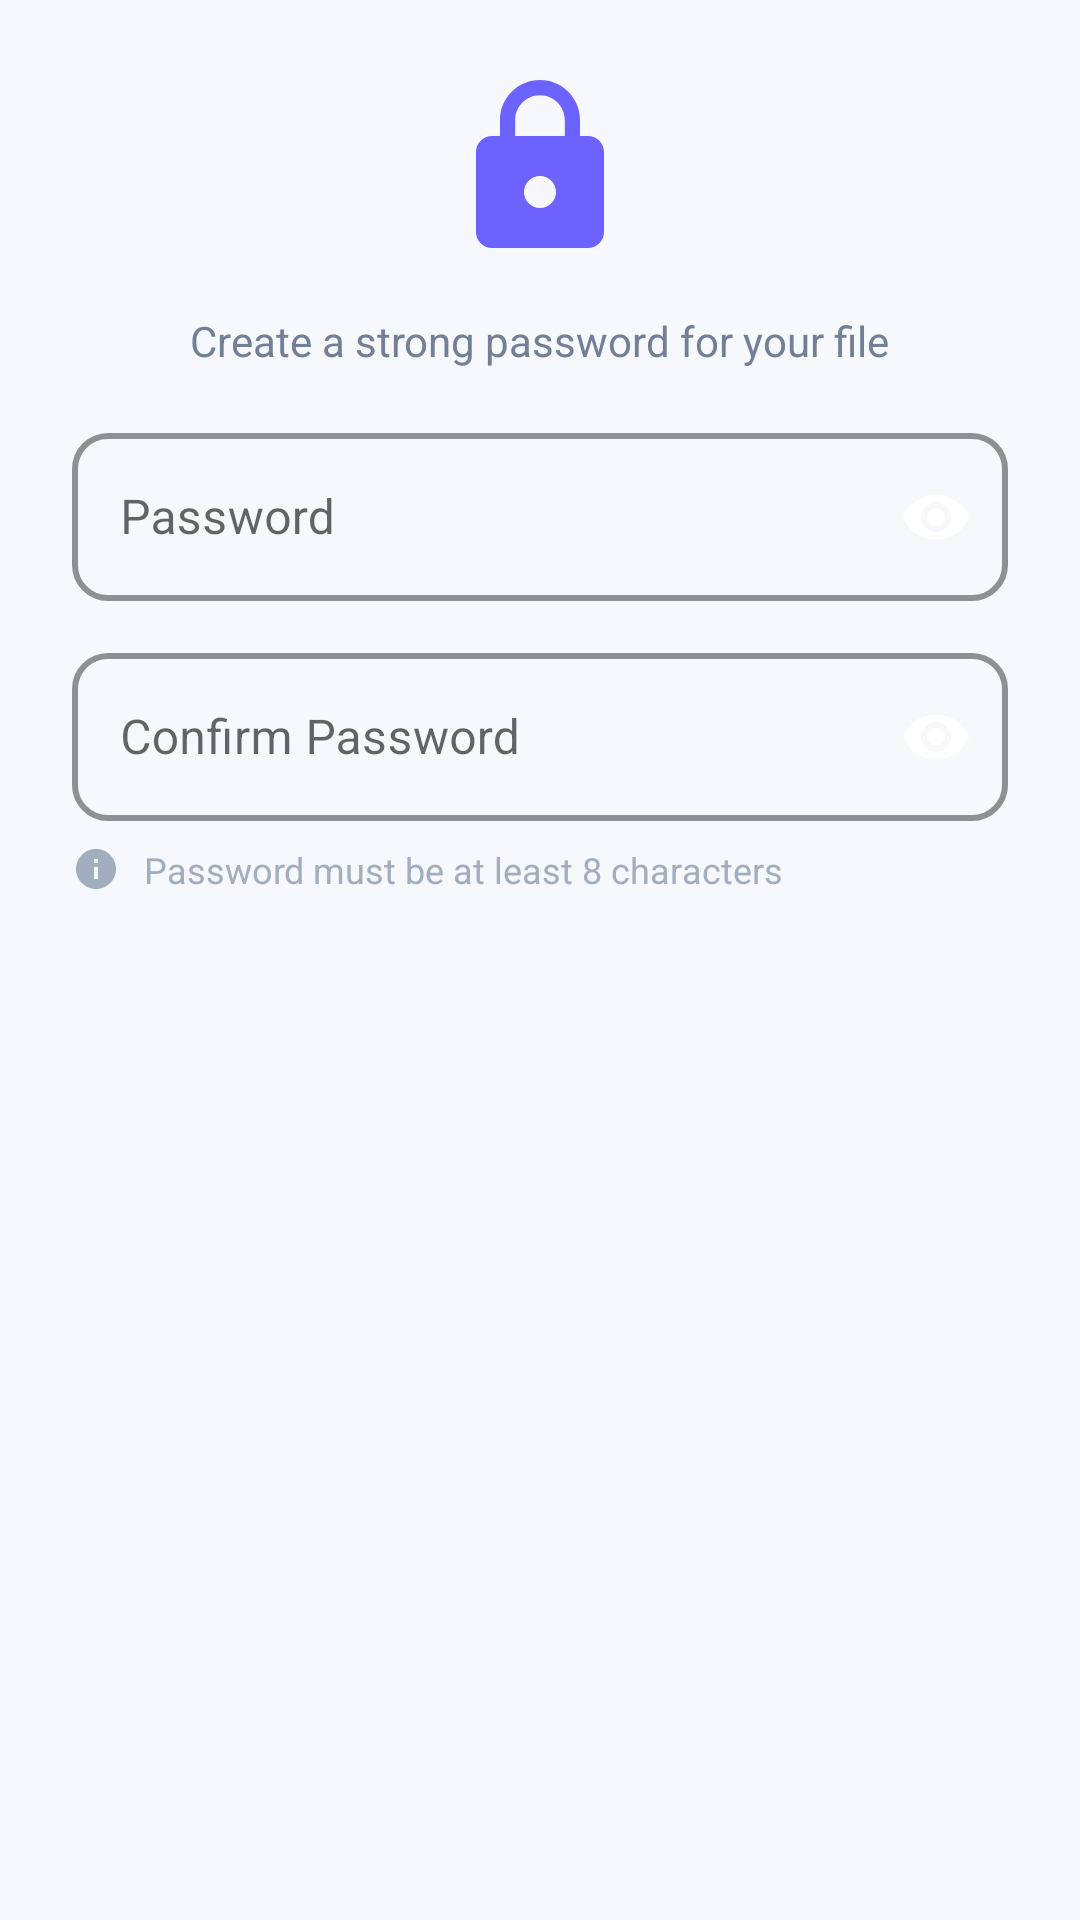

Icons on this 1080w x 1920h Android screen, each with the point to tap as (x=x, y=y):
info: (x=96, y=869)
lock: (x=540, y=164)
